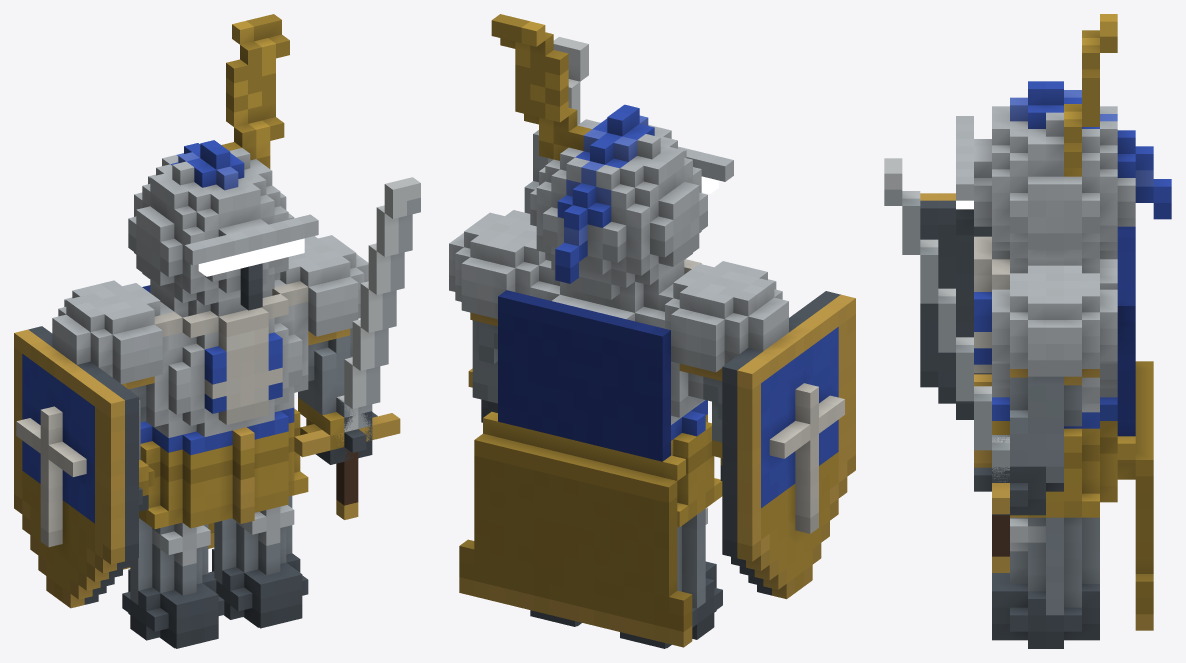
The model's file is u_garde__trappeur.glb.
The picture shows the model from 3 angles, left to right: view 1: azimuth 30°, elevation 25°; view 2: azimuth 150°, elevation 25°; view 3: azimuth 270°, elevation 25°; orthographic projection. The views are drawn at different scales.
Parts seen in each view (by area): view 1: garde_body, garde_weapon, garde_glow; view 2: garde_body, garde_weapon; view 3: garde_body, garde_weapon.
Part boxes in pixels (<box>): garde_body: <box>14,14,377,648</box>; garde_weapon: <box>294,177,420,519</box>; garde_glow: <box>198,238,304,276</box>; garde_body: <box>449,14,855,648</box>; garde_weapon: <box>468,37,588,387</box>; garde_body: <box>920,14,1171,648</box>; garde_weapon: <box>884,158,1009,572</box>.
Bounding box in the file's own units: 1.2 × 1.95 × 0.8.
